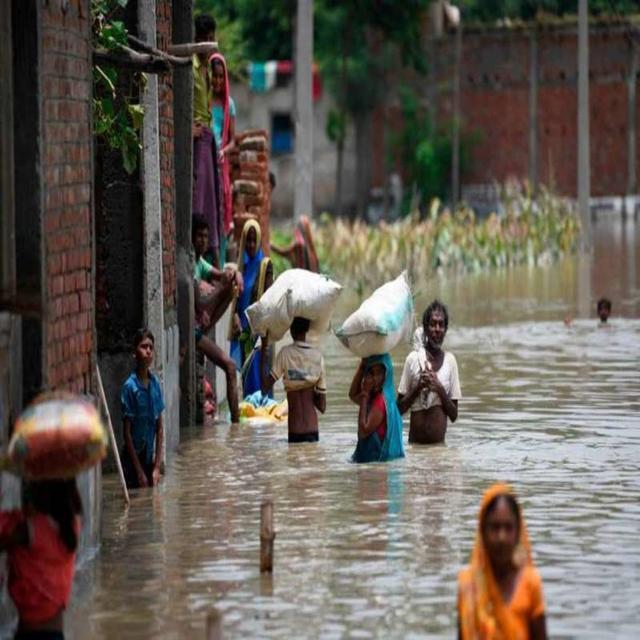Person-RiskLevel2: (109, 326, 179, 500), (395, 302, 471, 452), (265, 290, 332, 445), (340, 335, 405, 463)
Person-RiskLevel3: (551, 286, 632, 341)
